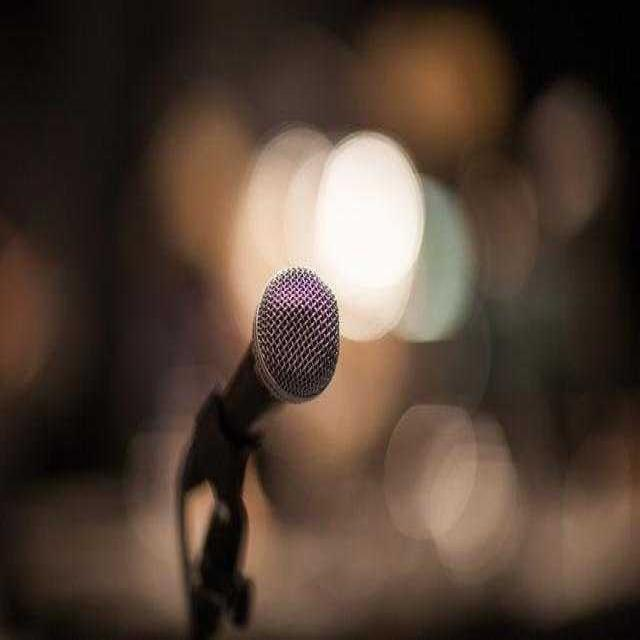microphone: (192, 260, 347, 514)
